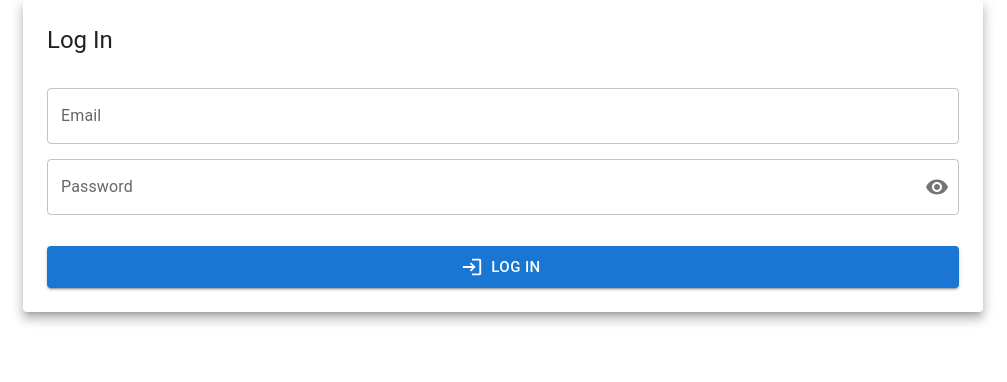
Test: Login › Email Field › should validate required error correctly
Click the button with test id "login-submit-button" at (503, 267), box [47,246,959,288]
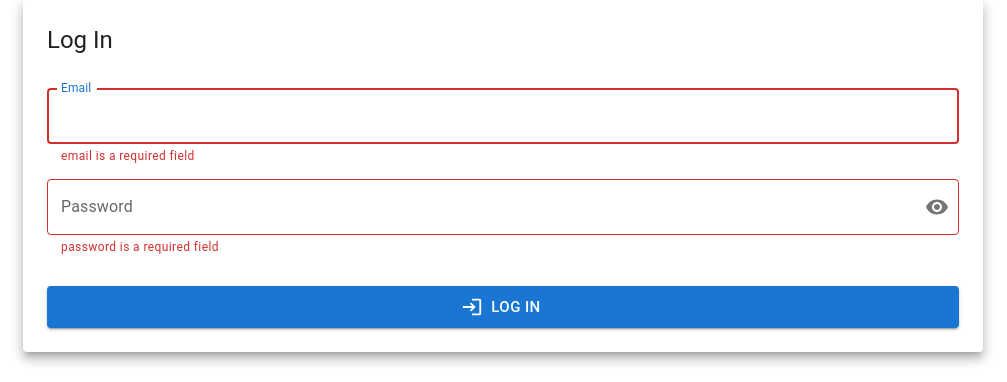
Expected: the text with test id "login-email-error" reads "email is a required field", [61,149,195,163]
